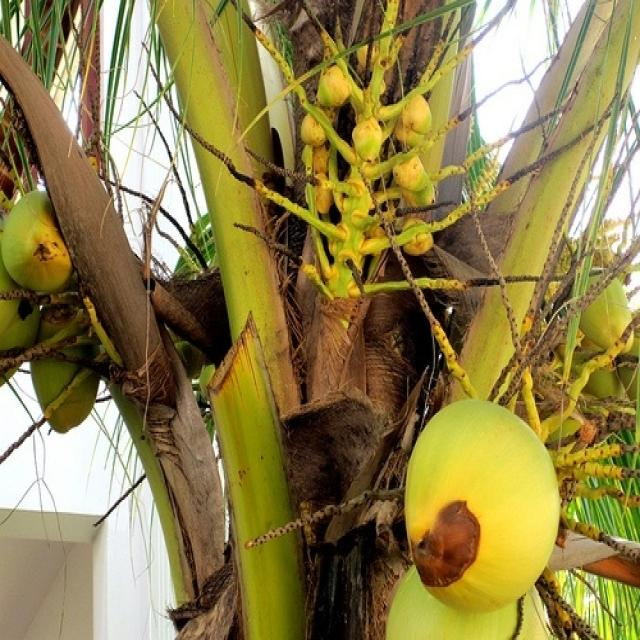coconut: (401, 399, 559, 610), (2, 189, 75, 296), (30, 349, 100, 433), (578, 278, 634, 354)
